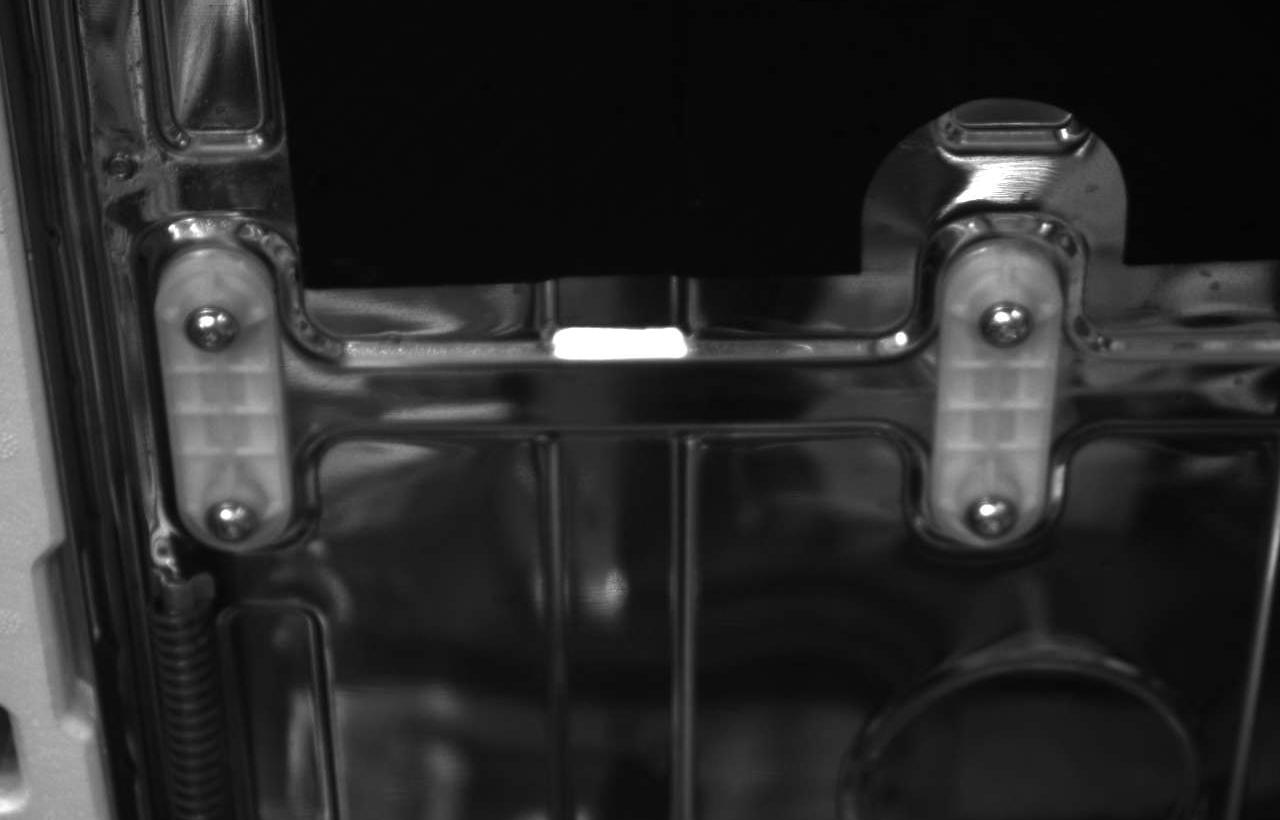vida-ok: (166, 287, 252, 365), (959, 287, 1047, 360), (188, 484, 266, 548), (948, 491, 1024, 550)
